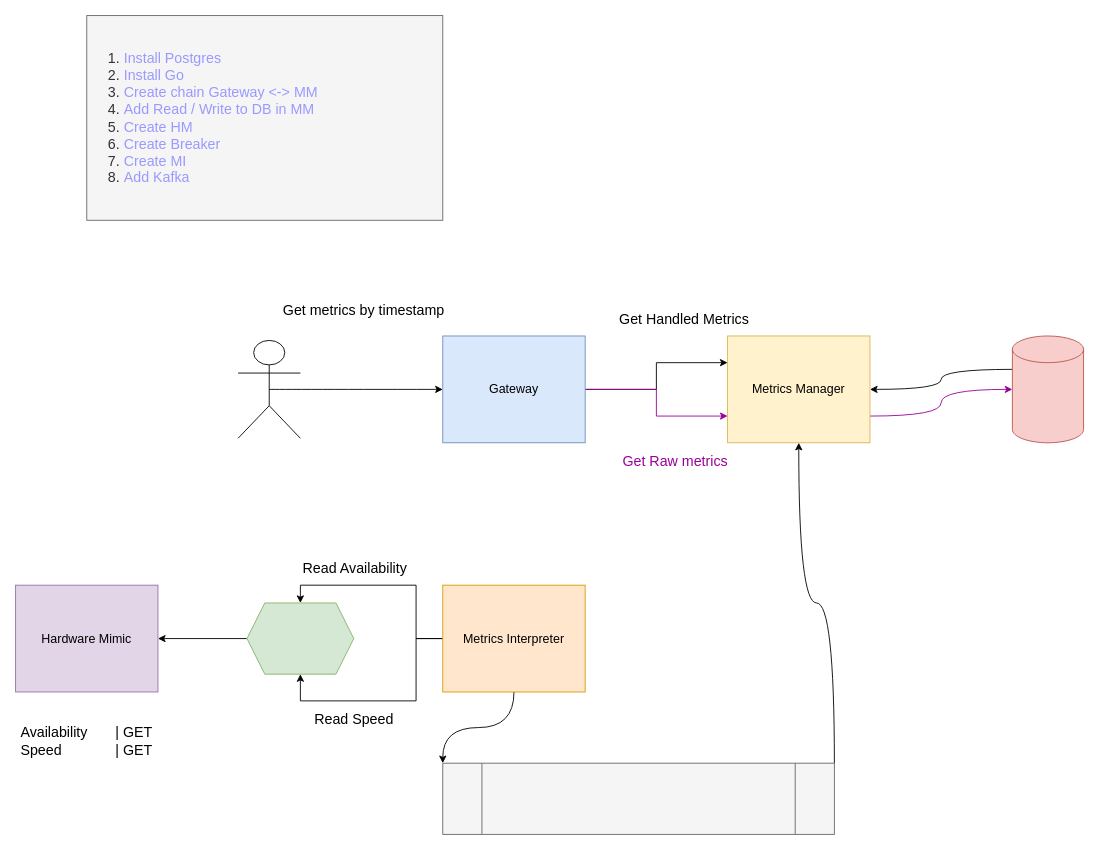
Some shapes in this 1099 by 850 pixel diagram are drawn without their labels. The box of each missing label's shape, as (x1, y1, x2, y2) in pixels:
Actor: (237, 340, 300, 438)
Breaker: (246, 602, 354, 674)
Kafka: (442, 762, 834, 834)
